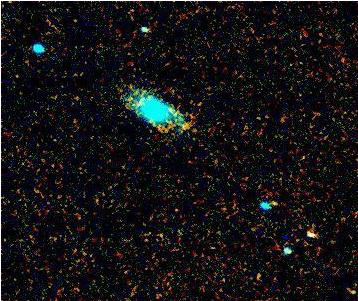star: (167, 112, 197, 142)
